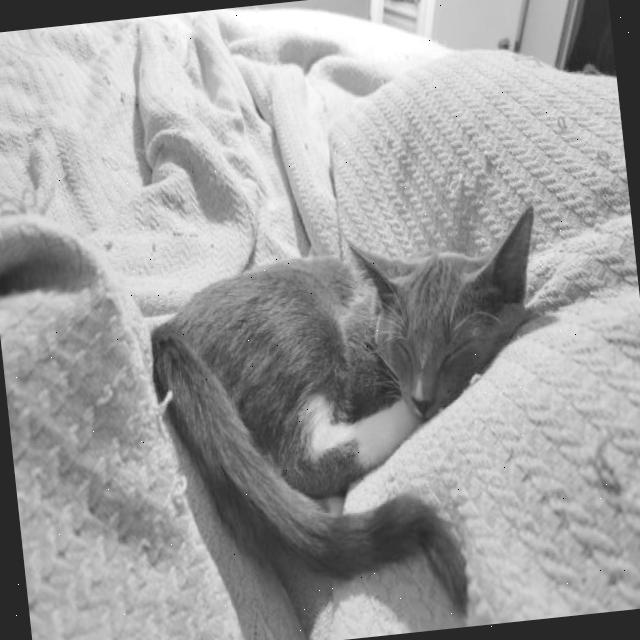russian_blue_cat: (334, 199, 566, 444)
